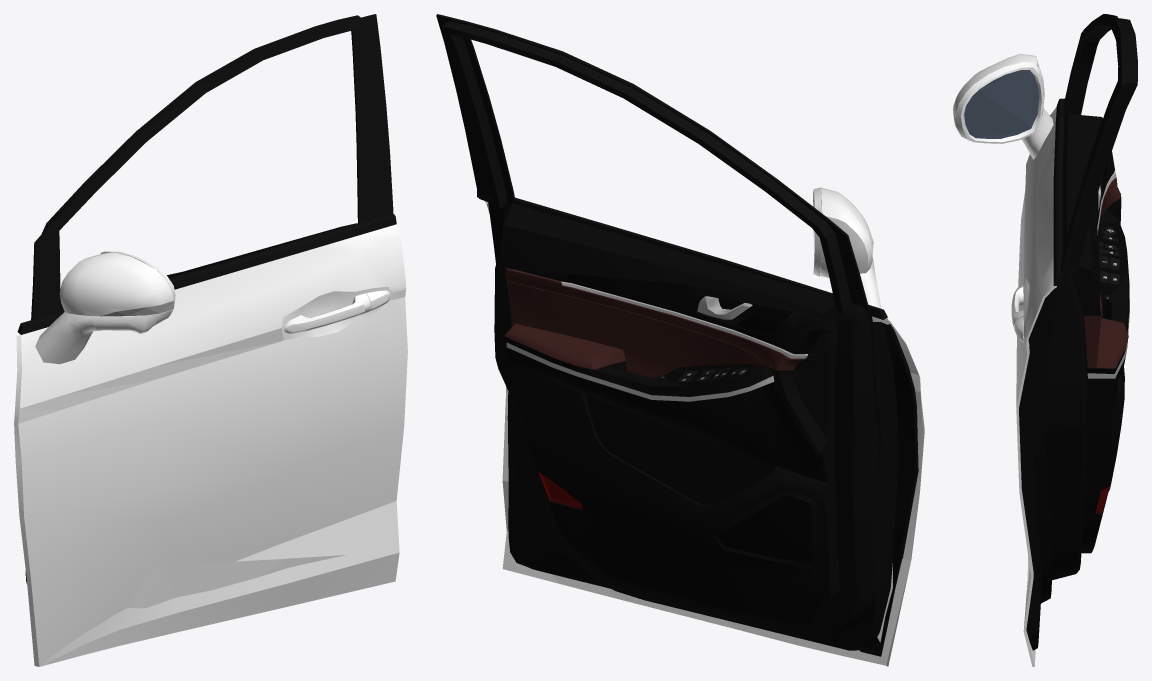
File: door_front_left.FBX
The picture shows the model from 3 angles, left to right: view 1: azimuth 30°, elevation 25°; view 2: azimuth 150°, elevation 25°; view 3: azimuth 270°, elevation 25°; orthographic projection. The views are drawn at different scales.
Visible parts, largest first — view 1: Object292_ID1, Object292_ID3, Object292_ID2, Object292_ID11, Object292_ID013; view 2: Object292_ID013, Object292_ID3, Object292_ID7, Object292_ID1, Object292_ID12, Object292_ID6, Object292_ID2, Object292_ID11; view 3: Object292_ID013, Object292_ID1, Object292_ID3, Object292_ID8, Object292_ID2, Object292_ID7, Object292_ID11, Object292_ID6.
Part boxes in pixels (left/top/right/bottom): Object292_ID1: left=14, top=224, right=407, bottom=666; Object292_ID3: left=31, top=14, right=393, bottom=320; Object292_ID2: left=35, top=251, right=175, bottom=364; Object292_ID11: left=17, top=214, right=396, bottom=334; Object292_ID013: left=25, top=223, right=357, bottom=584; Object292_ID013: left=488, top=202, right=918, bottom=656; Object292_ID3: left=436, top=14, right=868, bottom=314; Object292_ID7: left=504, top=267, right=805, bottom=377; Object292_ID1: left=485, top=201, right=924, bottom=666; Object292_ID12: left=717, top=305, right=812, bottom=564; Object292_ID6: left=506, top=212, right=822, bottom=401; Object292_ID2: left=813, top=187, right=881, bottom=308; Object292_ID11: left=477, top=190, right=887, bottom=319; Object292_ID013: left=1019, top=113, right=1129, bottom=650; Object292_ID1: left=1011, top=107, right=1056, bottom=666; Object292_ID3: left=1058, top=14, right=1137, bottom=287; Object292_ID8: left=964, top=70, right=1039, bottom=138; Object292_ID2: left=953, top=53, right=1053, bottom=159; Object292_ID7: left=1084, top=177, right=1128, bottom=368; Object292_ID11: left=1053, top=98, right=1064, bottom=285; Object292_ID6: left=953, top=103, right=1129, bottom=378.
Bounding box in the file's own units: 36.65 × 46.26 × 13.06.
Materials: 10 (1 with a texture image).
